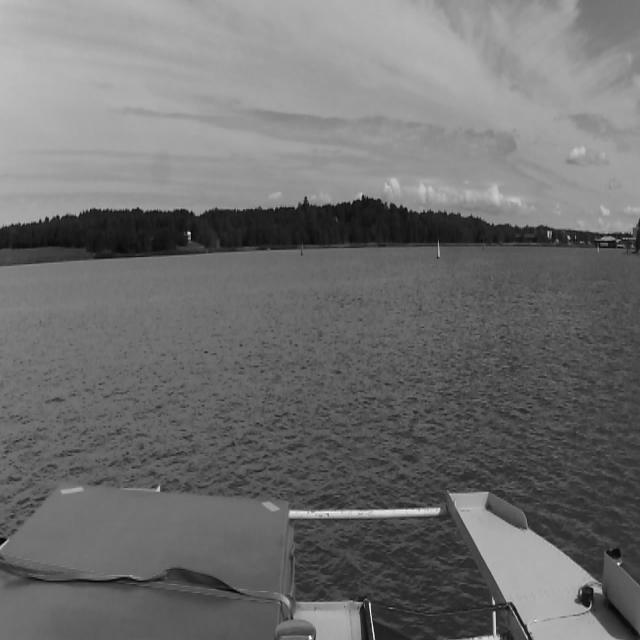buoy: (436, 240, 440, 259), (301, 242, 303, 256)
